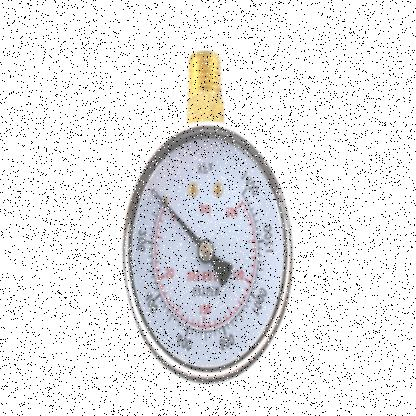needle: (158, 195, 201, 247)
